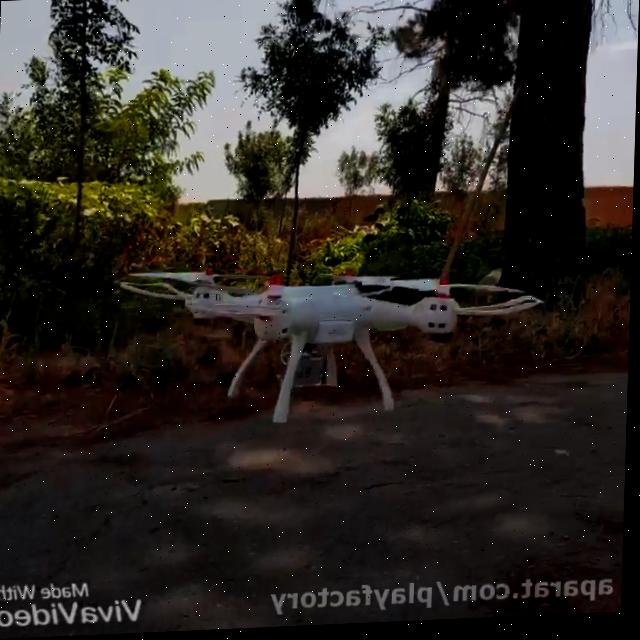drone: (116, 249, 545, 432)
